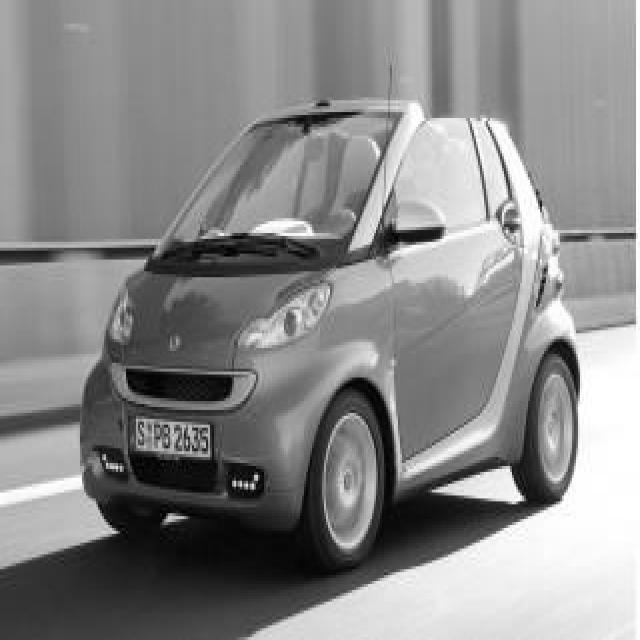Car: (80, 101, 580, 569)
